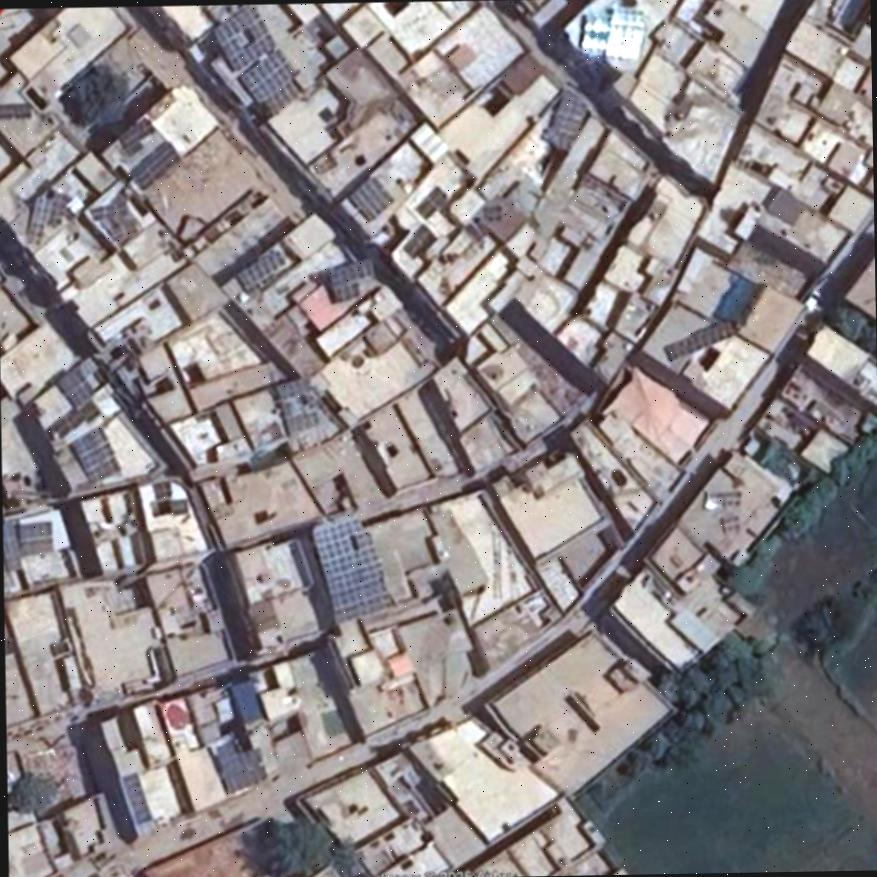Solarpanel: (309, 511, 390, 621), (213, 4, 295, 106), (664, 318, 735, 360), (69, 427, 118, 483), (130, 140, 179, 188), (330, 258, 379, 300), (348, 176, 391, 220), (604, 7, 643, 55), (548, 93, 585, 143), (239, 251, 284, 285), (55, 365, 93, 404), (15, 520, 50, 553), (0, 102, 31, 117)
